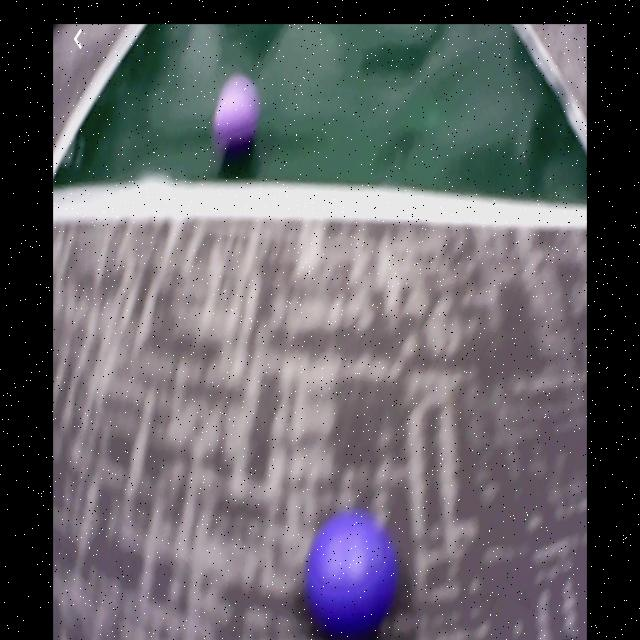ball: (309, 509, 399, 640), (217, 78, 258, 149)
